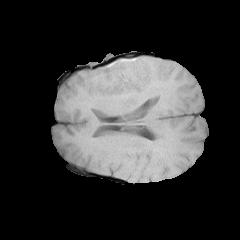glioma: (98, 58, 143, 93)
